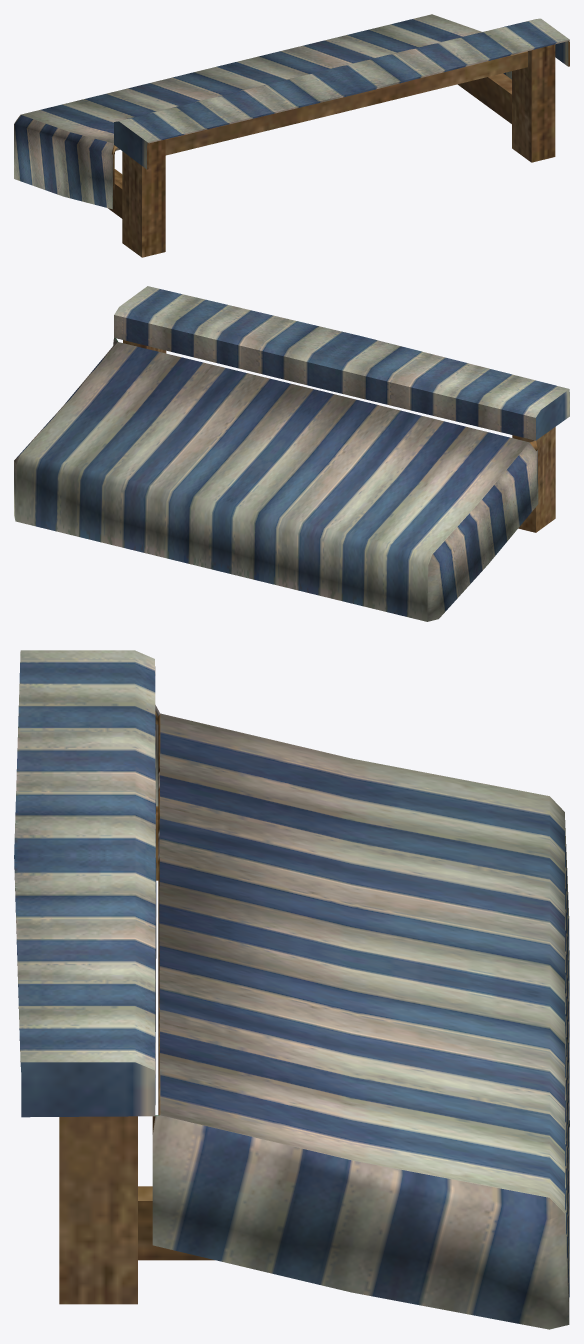
File: Prop_Awning02.glb
3 views of the same model, one above another, from view 1: azimuth 30°, elevation 25°; view 2: azimuth 150°, elevation 25°; view 3: azimuth 270°, elevation 25° (orthographic). The views are drawn at different scales.
Visible parts, largest first — view 1: xinshou_Awning02; view 2: xinshou_Awning02; view 3: xinshou_Awning02.
Part boxes in pixels (bbox=[...]): xinshou_Awning02: bbox=[14, 14, 569, 257]; xinshou_Awning02: bbox=[14, 286, 569, 621]; xinshou_Awning02: bbox=[14, 650, 569, 1329].
Bounding box in the file's own units: 25.44 × 7.68 × 14.4.
Materials: 1 (1 with a texture image).
